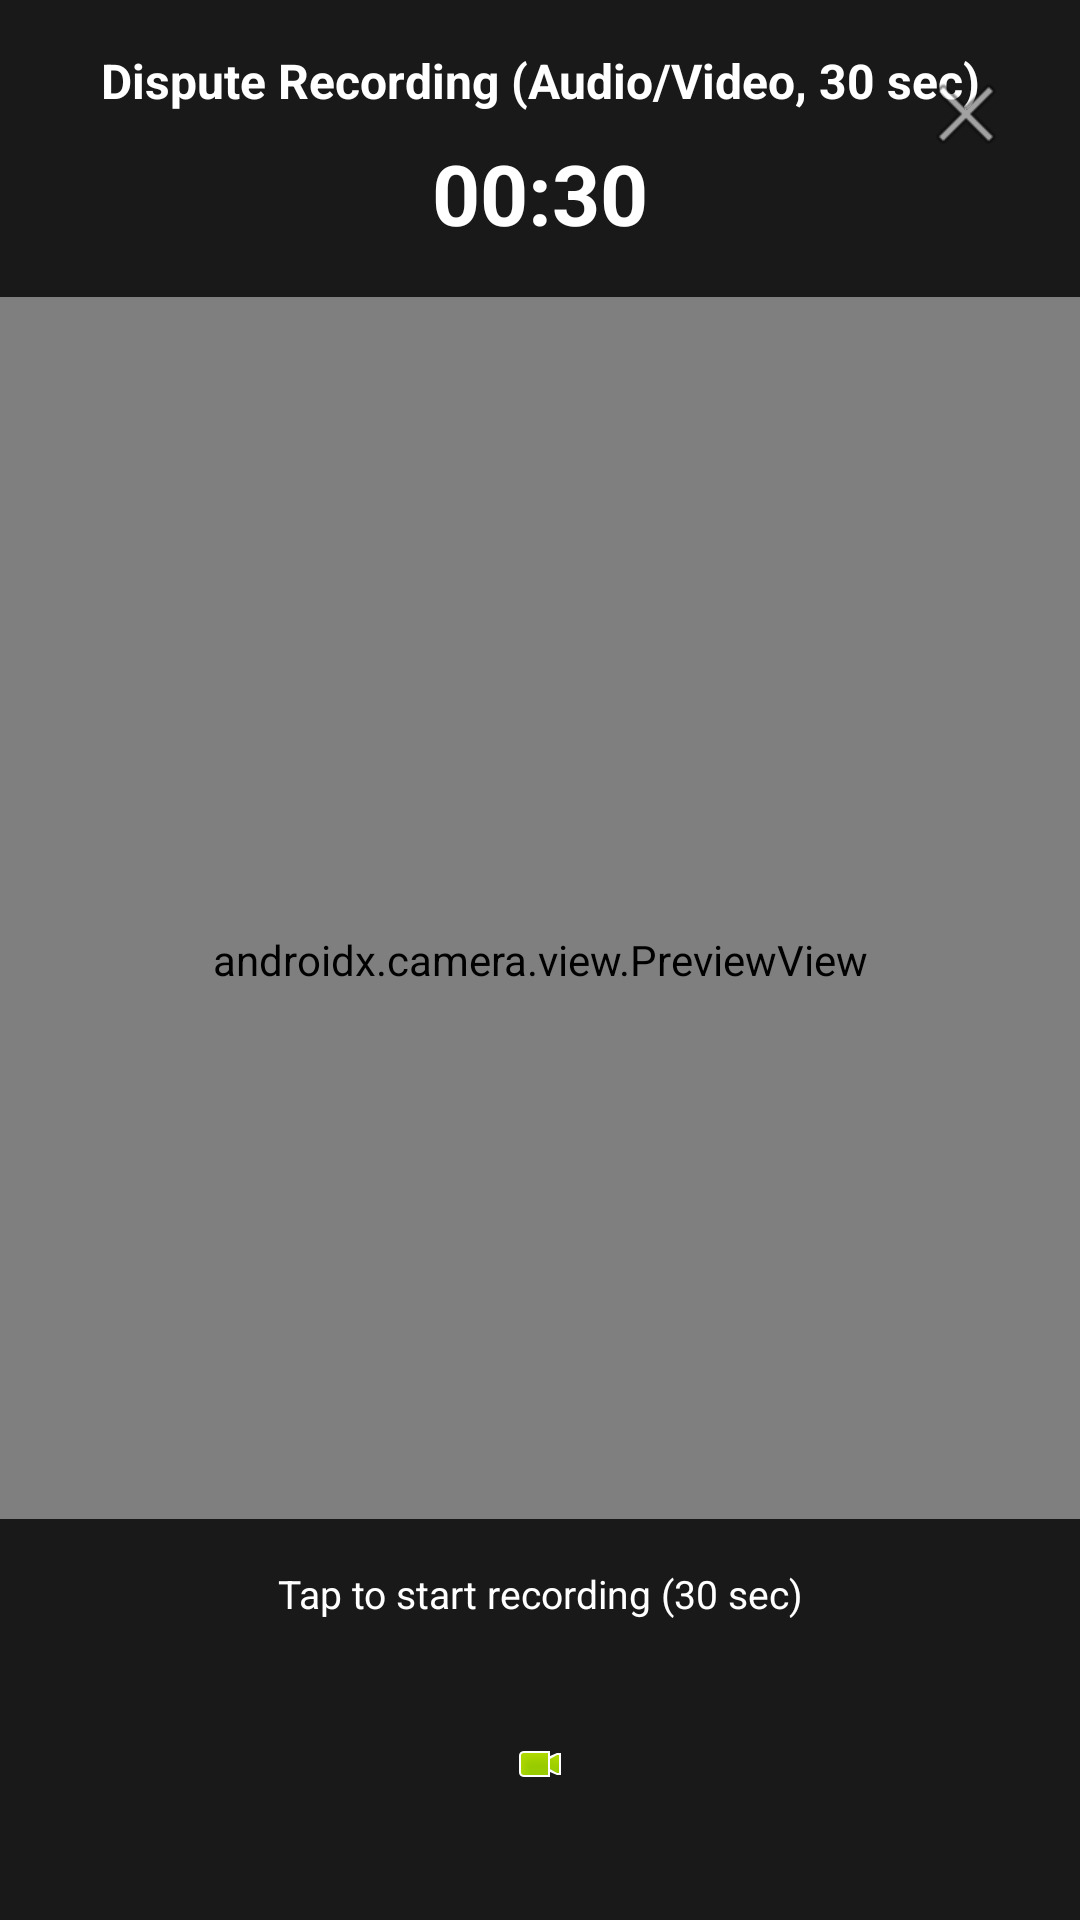

Icons on this 1080px×1920px Android screen, each with its box as {"left": x1, "top": y1, "right": x2, "bottom": y2}:
presence video online: {"left": 519, "top": 1751, "right": 561, "bottom": 1777}
